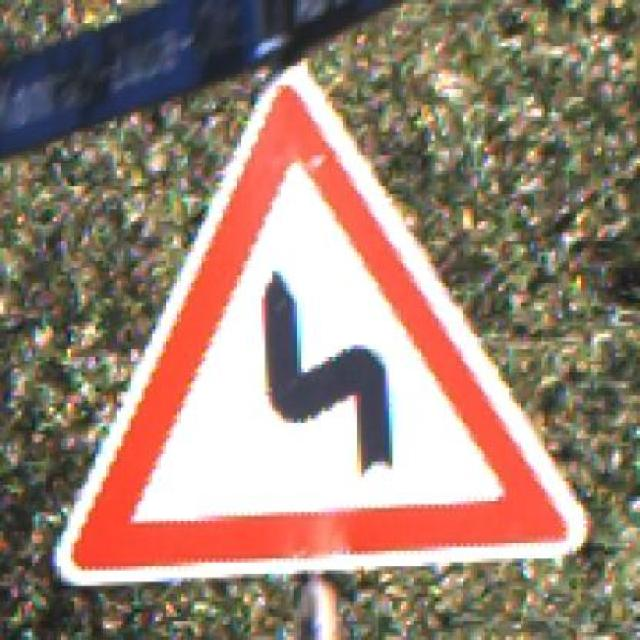Left Zig Zag Traffic: (40, 74, 603, 586)
